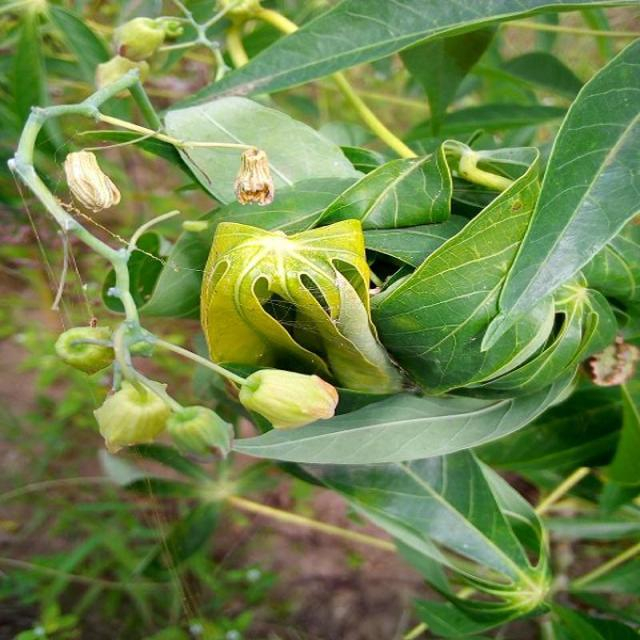cassava leaf: (482, 35, 640, 350), (198, 215, 405, 396), (162, 93, 364, 209)
